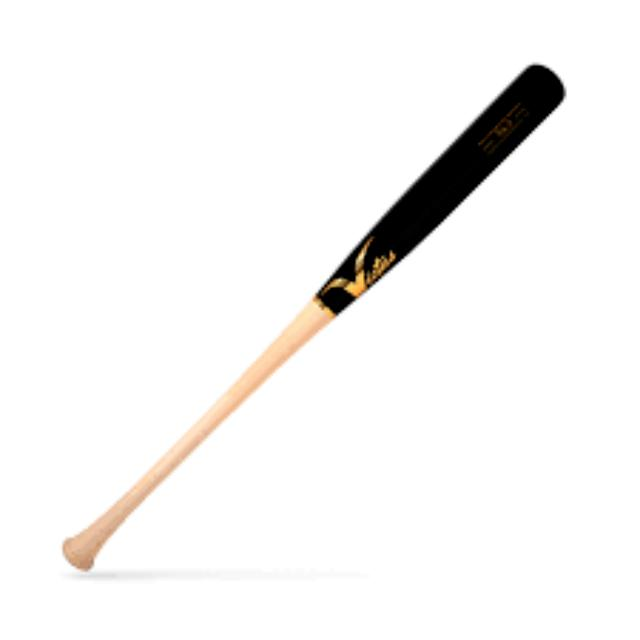baseball bat: (64, 63, 566, 567)
